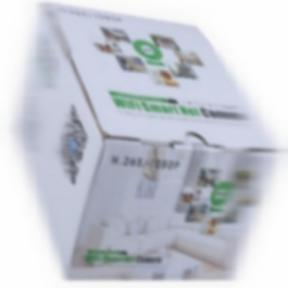box: (15, 3, 280, 282)
